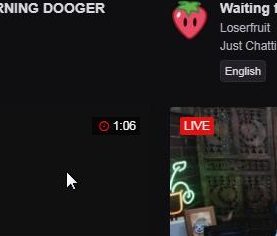cursor: (60, 168, 83, 193)
